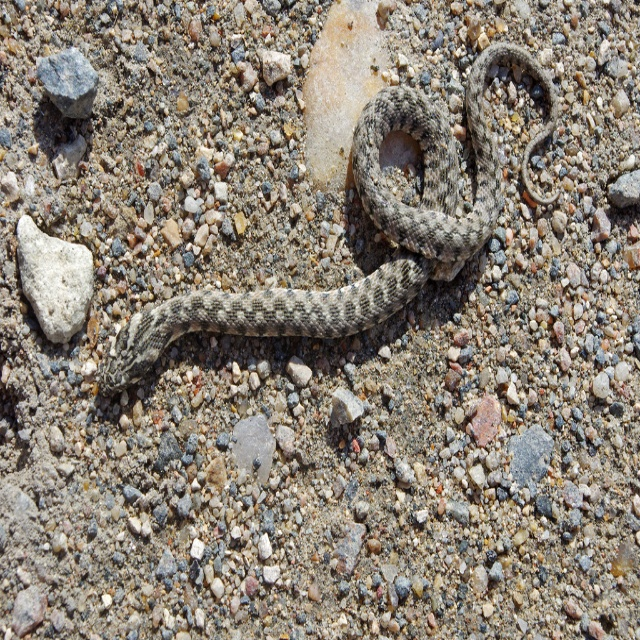Snake: (97, 41, 558, 397)
